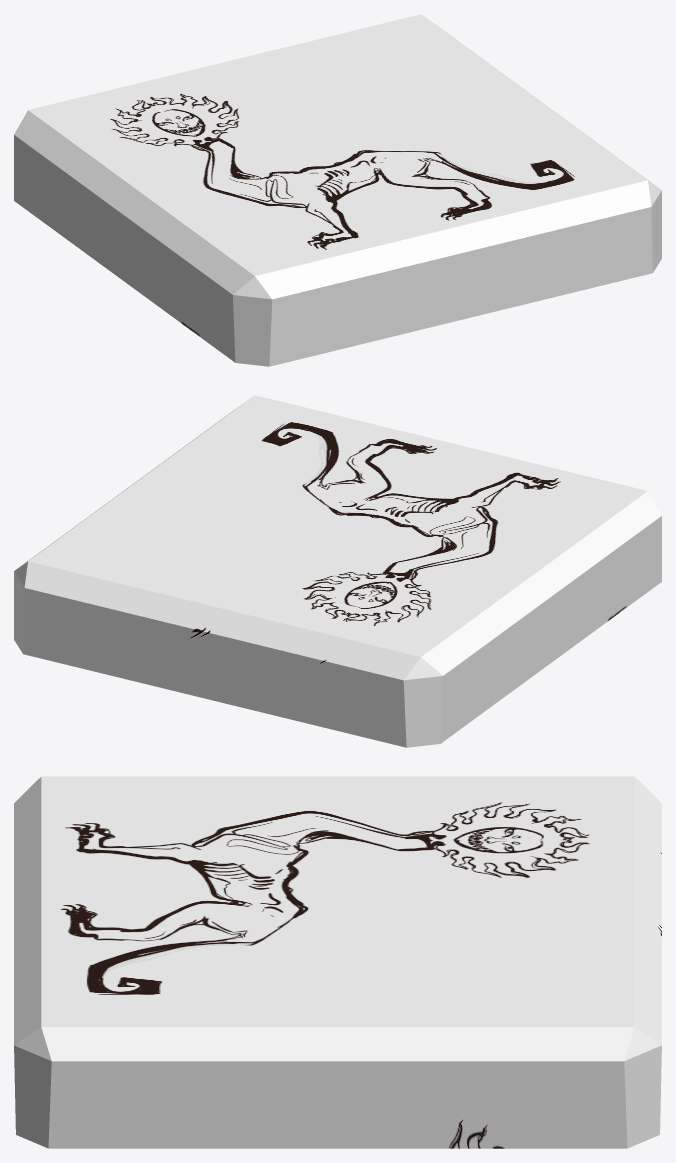
Rendered from mm-manticoreTile2.fbx.
The picture shows the model from 3 angles, top to bottom: view 1: azimuth 30°, elevation 25°; view 2: azimuth 150°, elevation 25°; view 3: azimuth 270°, elevation 25°; orthographic projection. The views are drawn at different scales.
Parts seen in each view (by area): view 1: Cube; view 2: Cube; view 3: Cube.
Part boxes in pixels (left/top/right/bottom): Cube: left=14, top=14, right=661, bottom=366; Cube: left=14, top=395, right=661, bottom=747; Cube: left=14, top=776, right=661, bottom=1148.
Size of the model in its own units: 202 by 39.79 by 202.
